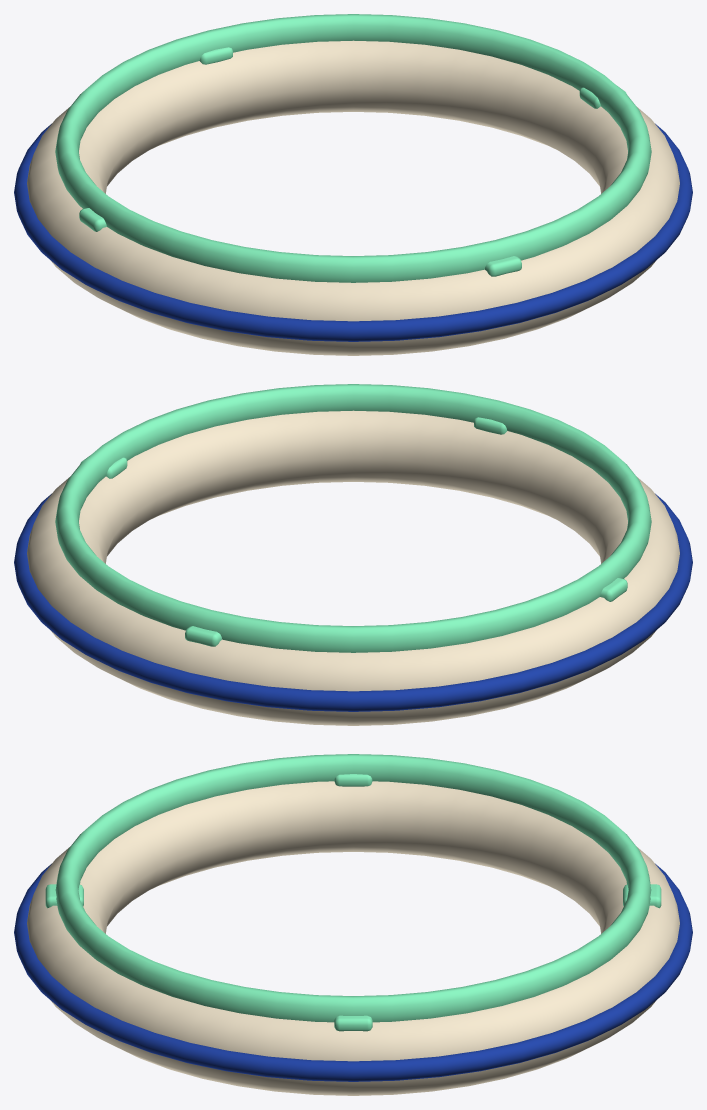
The model's file is exit-open.glb.
3 renders of one model, top to bottom at view 1: azimuth 30°, elevation 25°; view 2: azimuth 150°, elevation 25°; view 3: azimuth 270°, elevation 25°, orthographic.
Visible parts, largest first — view 1: exit-open • ivory frame, exit-open • state ring, exit-open • cobalt bead, exit-open • compass tab.003; view 2: exit-open • ivory frame, exit-open • state ring, exit-open • cobalt bead, exit-open • compass tab.001; view 3: exit-open • ivory frame, exit-open • state ring, exit-open • cobalt bead, exit-open • compass tab.
Boxes of the visible parts, x1=… form: exit-open • ivory frame: x1=27, y1=40, x2=679, y2=355; exit-open • state ring: x1=55, y1=14, x2=651, y2=282; exit-open • cobalt bead: x1=14, y1=123, x2=692, y2=341; exit-open • compass tab.003: x1=484, y1=256, x2=521, y2=276; exit-open • ivory frame: x1=27, y1=410, x2=679, y2=725; exit-open • state ring: x1=55, y1=384, x2=651, y2=652; exit-open • cobalt bead: x1=14, y1=493, x2=692, y2=711; exit-open • compass tab.001: x1=185, y1=626, x2=222, y2=646; exit-open • ivory frame: x1=27, y1=781, x2=679, y2=1095; exit-open • state ring: x1=55, y1=754, x2=651, y2=1022; exit-open • cobalt bead: x1=14, y1=863, x2=692, y2=1081; exit-open • compass tab: x1=334, y1=1015, x2=372, y2=1031.
Size of the model in its own units: 1.15 by 0.1721 by 1.15.
